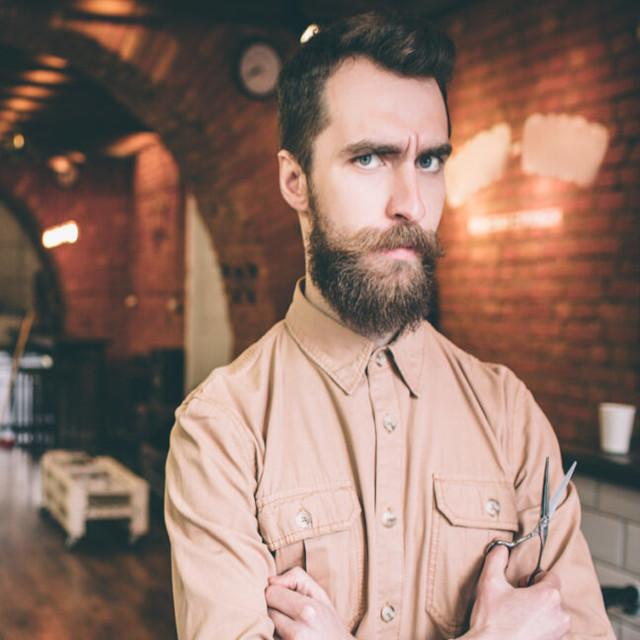mezczyzna: (163, 8, 587, 640)
